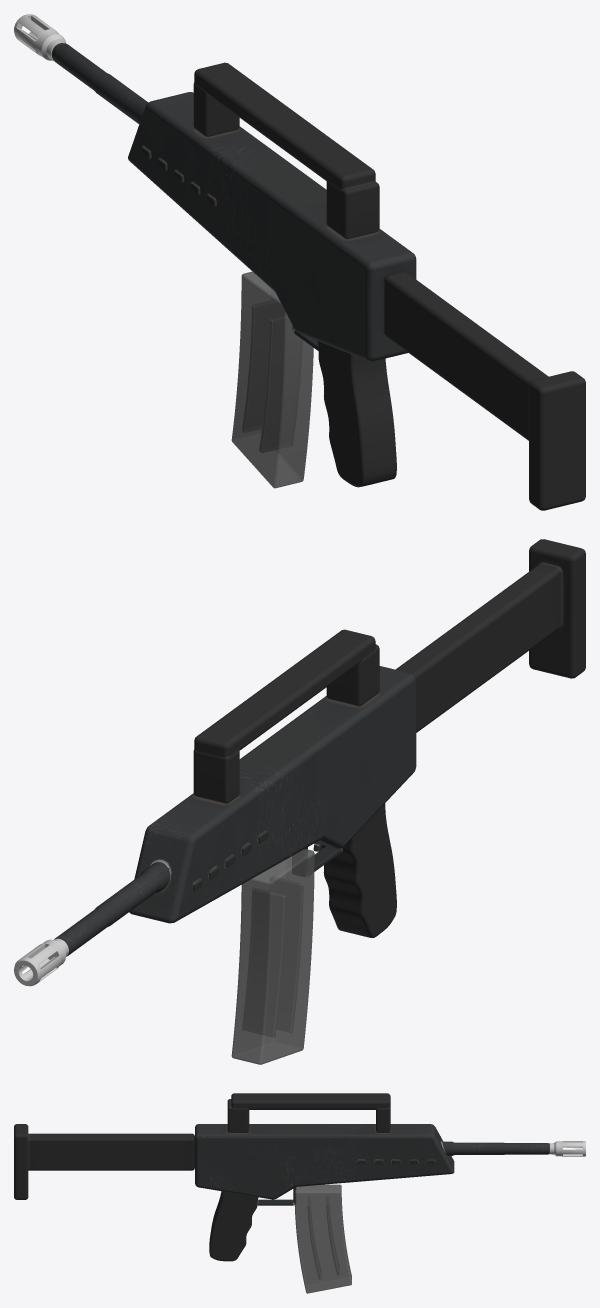
The picture shows the model from 3 angles, top to bottom: view 1: azimuth 30°, elevation 25°; view 2: azimuth 150°, elevation 25°; view 3: azimuth 270°, elevation 25°; orthographic projection. The views are drawn at different scales.
Parts seen in each view (by area): view 1: Frame, Stock, Mag_body, Mag_body_rib0, Mag_body_rib1, FlashHider; view 2: Frame, Stock, Mag_body, Mag_body_rib1, Mag_body_rib0, FlashHider; view 3: Frame, Stock, Mag_body, FlashHider, Mag_body_rib0, Mag_body_rib1.
Boxes of the visible parts, x1=… form: Frame: x1=51, y1=43, x2=416, y2=487; Stock: x1=384, y1=271, x2=585, y2=510; Mag_body: x1=231, y1=271, x2=313, y2=488; Mag_body_rib0: x1=259, y1=315, x2=302, y2=453; Mag_body_rib1: x1=242, y1=299, x2=284, y2=432; FlashHider: x1=14, y1=14, x2=65, y2=60; Frame: x1=54, y1=629, x2=416, y2=956; Stock: x1=396, y1=539, x2=585, y2=732; Mag_body: x1=231, y1=849, x2=314, y2=1064; Mag_body_rib1: x1=242, y1=888, x2=285, y2=1037; Mag_body_rib0: x1=270, y1=876, x2=303, y2=1032; FlashHider: x1=14, y1=938, x2=68, y2=986; Frame: x1=195, y1=1093, x2=549, y2=1261; Stock: x1=14, y1=1124, x2=194, y2=1199; Mag_body: x1=294, y1=1184, x2=351, y2=1293; FlashHider: x1=549, y1=1141, x2=585, y2=1156; Mag_body_rib0: x1=307, y1=1197, x2=321, y2=1279; Mag_body_rib1: x1=326, y1=1196, x2=339, y2=1275.
Size of the model in its own units: 0.046 by 0.2942 by 0.79.
